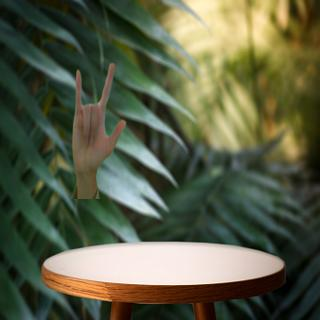ILY: (71, 61, 128, 175)
